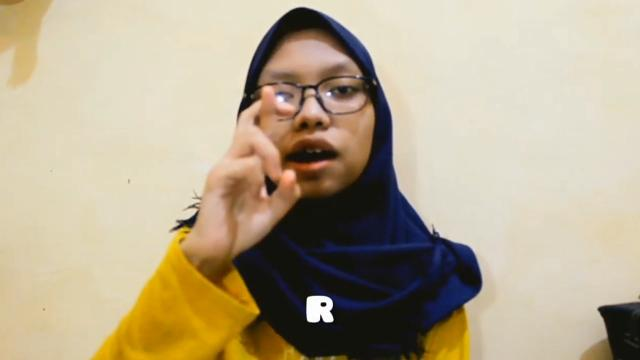R: (202, 83, 304, 259)
